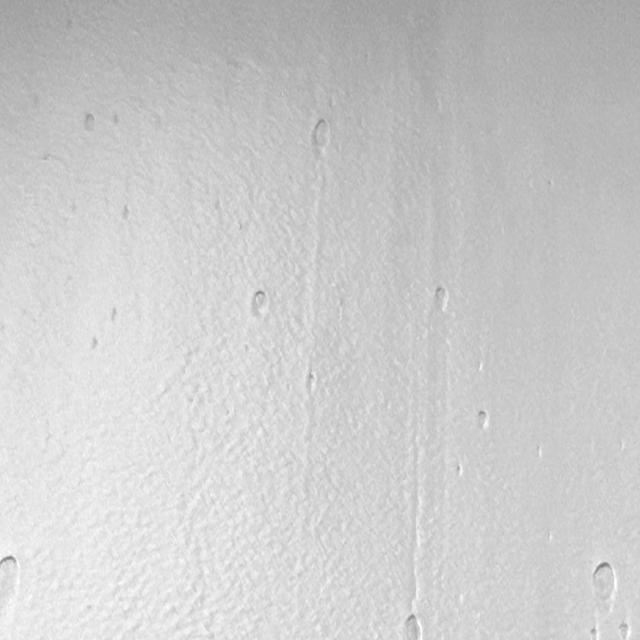pin holes: (587, 561, 618, 610), (306, 118, 333, 154), (2, 555, 24, 595), (247, 287, 270, 320), (400, 611, 425, 640), (432, 284, 453, 313), (79, 112, 100, 138), (474, 409, 492, 434), (304, 372, 321, 396), (121, 204, 137, 226), (616, 621, 634, 640), (90, 334, 103, 354), (110, 306, 123, 324), (586, 626, 602, 640), (112, 113, 125, 130), (452, 463, 464, 481)
